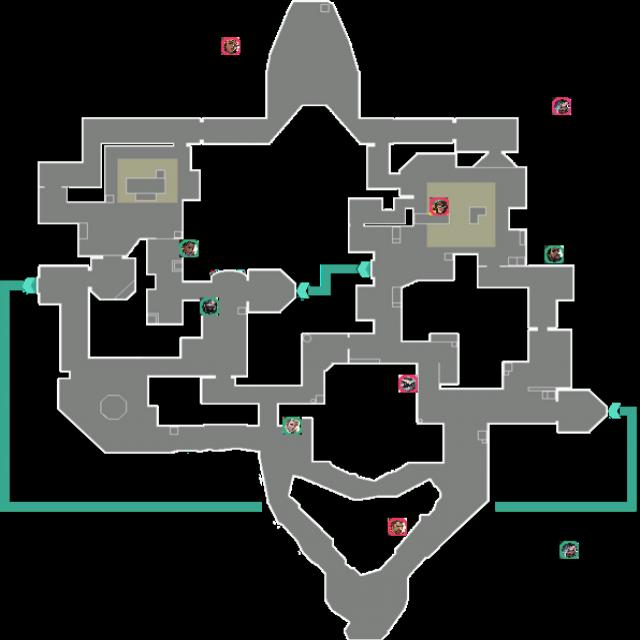atk_breach: (388, 518, 407, 536)
atk_cypher: (398, 374, 418, 392)
atk_fade: (552, 97, 571, 115)
atk_killjoy: (429, 198, 449, 215)
atk_raze: (221, 37, 241, 55)
def_astra: (179, 240, 199, 258)
def_fade: (559, 541, 579, 559)
def_harbor: (544, 246, 564, 264)
def_sova: (282, 416, 302, 434)
def_viper: (200, 298, 219, 316)
